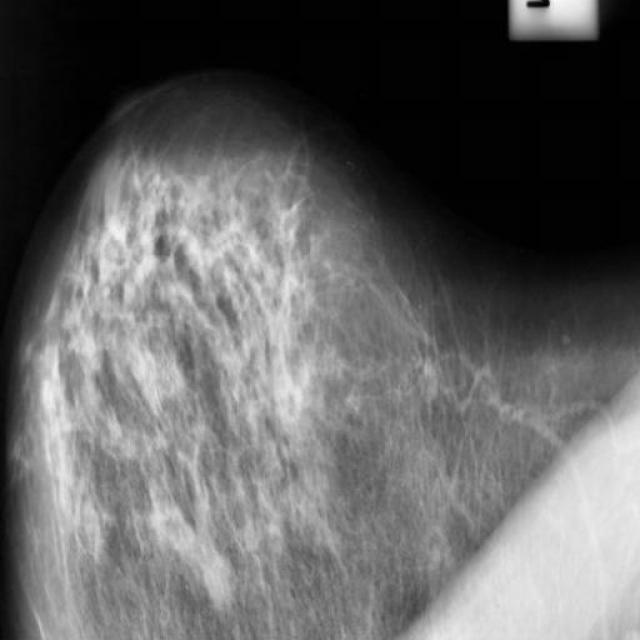cancer: (264, 335, 321, 445)
